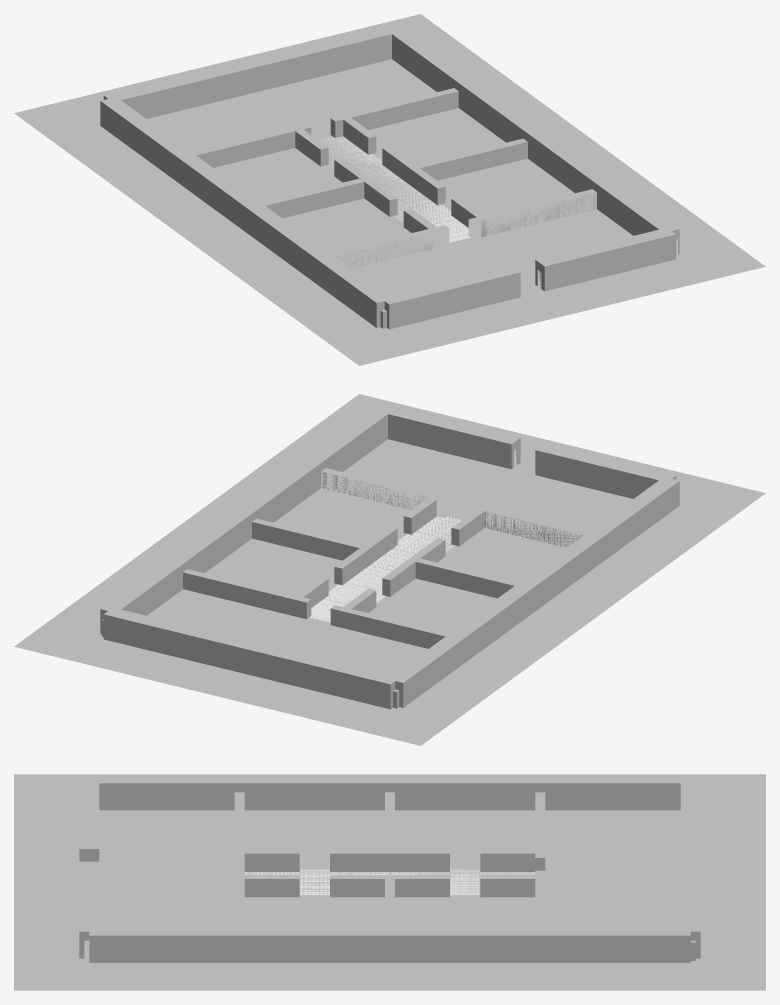
Rendered from demo.obj.
3 renders of one model, top to bottom at view 1: azimuth 30°, elevation 25°; view 2: azimuth 150°, elevation 25°; view 3: azimuth 270°, elevation 25°, orthographic. The views are drawn at different scales.
Visible parts, largest first — view 1: object296, object288, object264, object256, object4, object280, object272, object8, object0, object72, object16, object192 (+11 smaller); view 2: object296, object288, object264, object256, object280, object272, object0, object72, object8, object80, object192, object120 (+12 smaller); view 3: object296, object264, object288, object4, object256, object0, object272, object280, object112, object144, object248, object104 (+12 smaller).
Part boxes in pixels (x1,y1,x2,y2): object296: (14, 14, 765, 365); object288: (100, 99, 391, 327); object264: (388, 27, 679, 254); object256: (103, 25, 399, 118); object4: (389, 260, 698, 346); object280: (535, 228, 676, 291); object272: (380, 265, 520, 329); object8: (468, 189, 596, 239); object0: (321, 136, 470, 242); object72: (330, 88, 458, 137); object16: (330, 225, 449, 268); object192: (416, 138, 527, 180); object296: (14, 394, 765, 745); object288: (388, 479, 679, 707); object264: (100, 407, 391, 634); object256: (103, 607, 399, 709); object280: (385, 405, 520, 469); object272: (535, 443, 676, 498); object0: (309, 516, 461, 622); object72: (183, 569, 311, 619); object8: (321, 468, 449, 517); object80: (330, 605, 449, 648); object192: (252, 518, 363, 560); object120: (415, 558, 518, 598); object296: (14, 774, 765, 990); object264: (89, 927, 690, 962); object288: (89, 774, 690, 810); object4: (29, 806, 79, 958); object256: (680, 779, 700, 958); object0: (244, 869, 535, 895); object272: (79, 779, 99, 861); object280: (79, 861, 99, 958); object112: (385, 849, 449, 871); object144: (330, 849, 394, 871); object248: (234, 875, 299, 897); object104: (480, 849, 545, 871).
Bounding box in the file's own units: 51 × 3 × 75.
